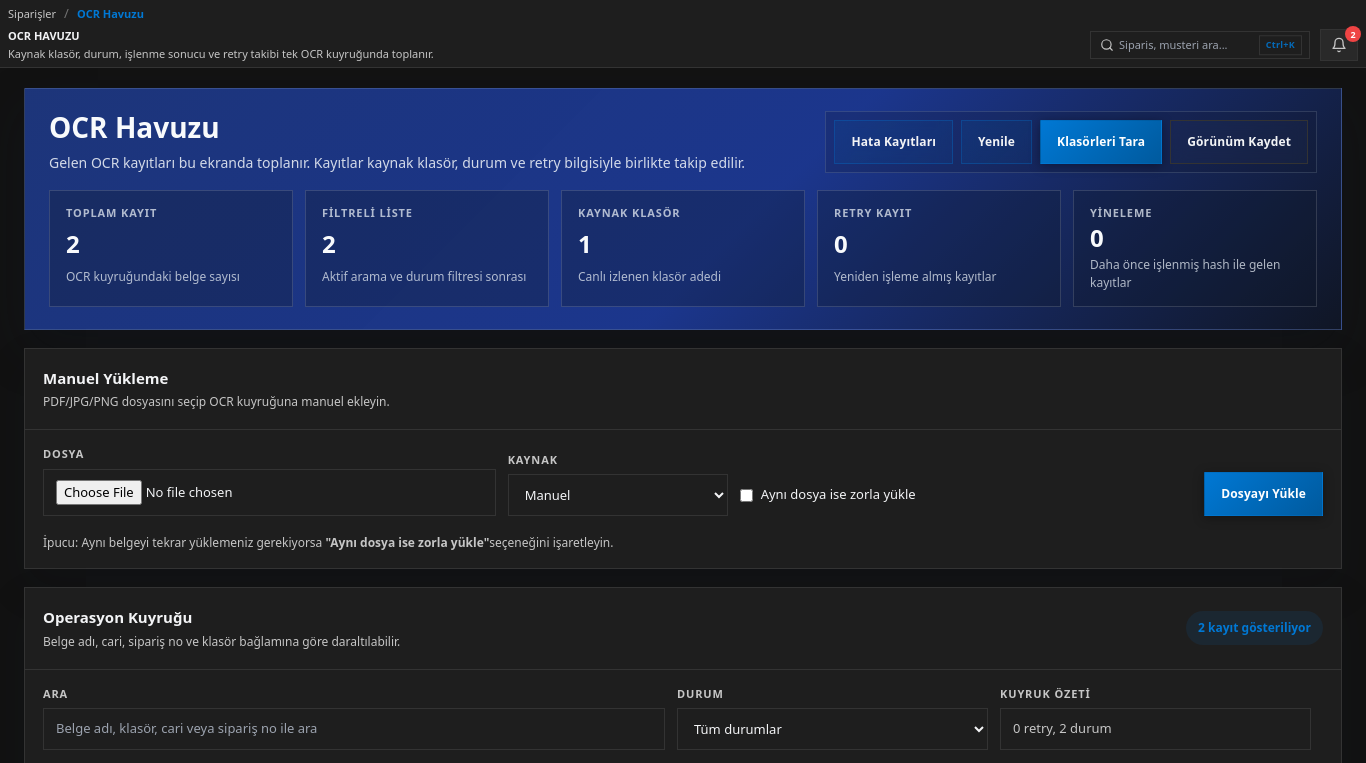
Test case: OCRPoolPage › Hata Kayıtları butonu durum filtresini HATA olarak ayarlar
The width and height of the screenshot is (1366, 763).
Expected: the text "2 kayıt gösteriliyor" is shown, x1=1186 y1=611 x2=1323 y2=645
Click the button "Hata Kayıtları" at (894, 142), box x1=834 y1=120 x2=953 y2=164
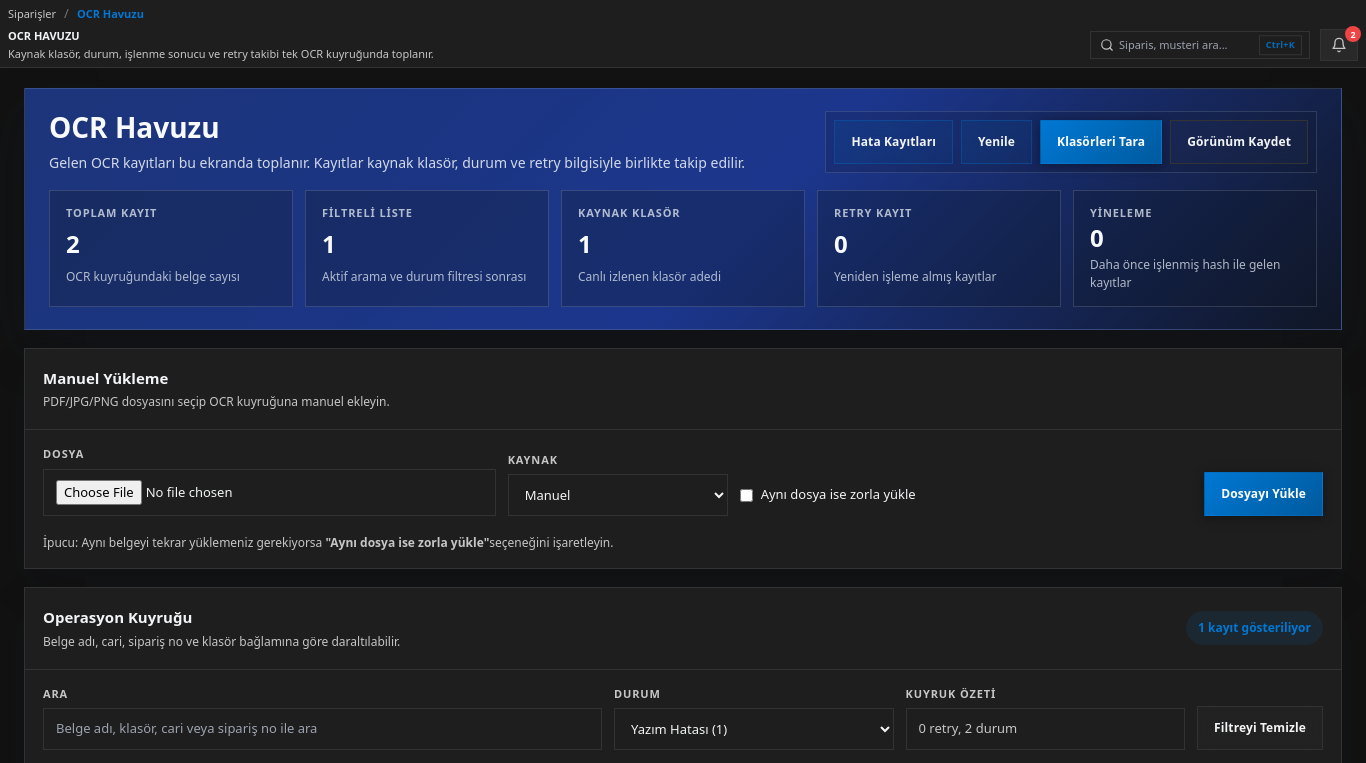
Expected: the text "1 kayıt gösteriliyor" is shown, x1=1186 y1=611 x2=1323 y2=645
